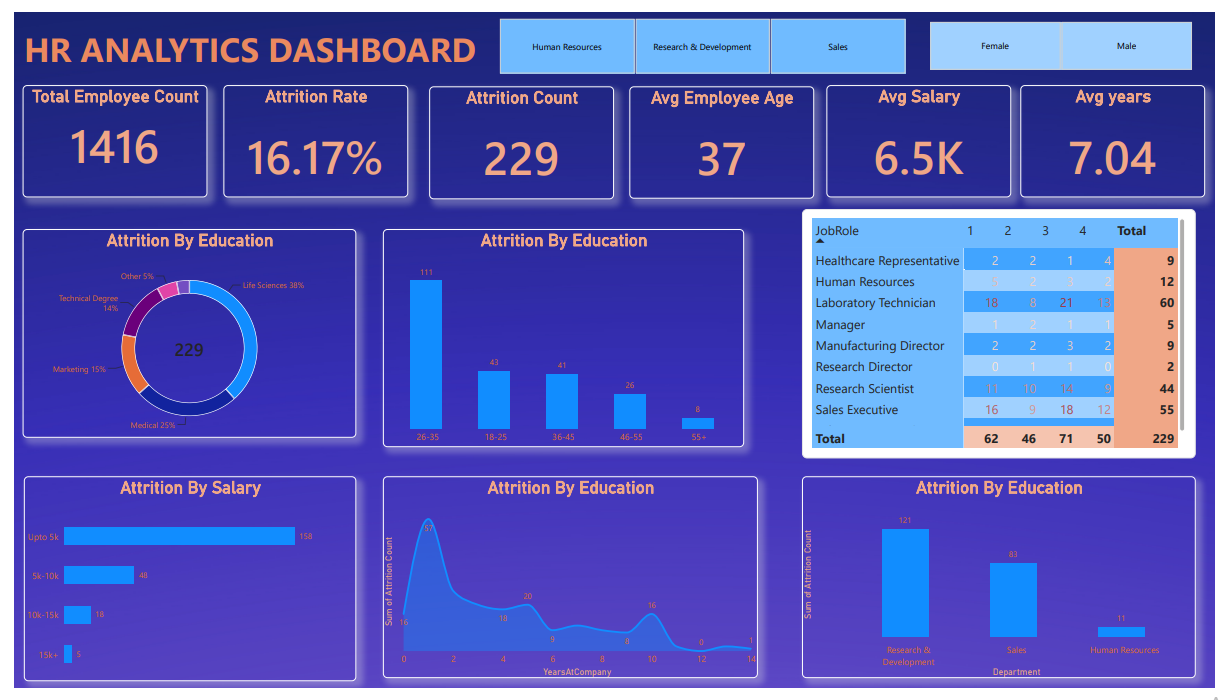

This screenshot's page, from the dashboard's own definition file:
{"tool":"powerbi","page":{"name":"Page 1","canvas":[1920,1080],"ordinal":0},"visuals":[{"type":"cardVisual","title":"Total Employee Count","fields":{"Data":["Sum(HR_Analytics.EmployeeCount)"]},"box":[14.5,117.2,295,179.2],"z":0},{"type":"cardVisual","title":"Attrition Rate","fields":{"Data":["HR_Analytics.Attrition Rate"]},"box":[334.8,117.2,295,179.2],"z":1000},{"type":"cardVisual","title":"Attrition Count","fields":{"Data":["Sum(HR_Analytics.Attrition Count)"]},"box":[664.1,119.4,295,179.2],"z":2000},{"type":"cardVisual","title":"Avg Employee Age","fields":{"Data":["Avg(HR_Analytics.Age)"]},"box":[984.5,119.1,295,179.2],"z":3000},{"type":"cardVisual","title":"Avg Salary","fields":{"Data":["Avg(HR_Analytics.MonthlyIncome)"]},"box":[1299.3,117.2,295,179.2],"z":4000},{"type":"cardVisual","title":"Avg years","fields":{"Data":["Avg(HR_Analytics.YearsAtCompany)"]},"box":[1608.8,117.2,295,179.2],"z":5000},{"type":"donutChart","title":"Attrition By Education","fields":{"Category":["HR_Analytics.EducationField"],"Y":["Sum(HR_Analytics.Attrition Count)"]},"box":[14.5,347.1,532,333],"z":6000},{"type":"clusteredColumnChart","title":"Attrition By Age Group","fields":{"Category":["HR_Analytics.AgeGroup"],"Y":["Sum(HR_Analytics.Attrition Count)"]},"box":[589.9,347.1,577.3,347.5],"z":7000},{"type":"clusteredBarChart","title":"Attrition By Salary","fields":{"Category":["HR_Analytics.SalarySlab"],"Y":["Sum(HR_Analytics.Attrition Count)"]},"box":[16.3,741.6,530.2,327.5],"z":8000},{"type":"pivotTable","title":"Attrition By Education","fields":{"Columns":["HR_Analytics.JobSatisfaction"],"Rows":["HR_Analytics.JobRole"],"Values":["Sum(HR_Analytics.Attrition Count)"]},"box":[1259.5,314.9,629.8,398.1],"z":9000},{"type":"areaChart","title":"Attrition By Years","fields":{"Category":["HR_Analytics.YearsAtCompany"],"Y":["Sum(HR_Analytics.Attrition Count)"]},"box":[589.9,742,599,322.1],"z":10000},{"type":"columnChart","title":"Attrition By Department","fields":{"Category":["HR_Analytics.Department"],"Y":["Sum(HR_Analytics.Attrition Count)"]},"box":[1259.5,742,629.8,322.1],"z":11000},{"type":"textbox","box":[100,100,300,300],"z":12000},{"type":"textbox","box":[16.3,21.7,740.2,77.8],"z":13000},{"type":"slicer","fields":{"Values":["HR_Analytics.Department"]},"box":[756.4,9,687.7,90.5],"z":14000},{"type":"slicer","fields":{"Values":["HR_Analytics.Gender"]},"box":[1444.1,14.5,457.8,79.6],"z":15000}]}

Visuals, with their boxes in screenshot pixels (x1, y1, x2, y2), scaled from the page's 1920x1080 canvas onto the 1223x700 screenshot:
"Total Employee Count" cardVisual: 9,76,197,192
"Attrition Rate" cardVisual: 213,76,401,192
"Attrition Count" cardVisual: 423,77,611,194
"Avg Employee Age" cardVisual: 627,77,815,193
"Avg Salary" cardVisual: 828,76,1016,192
"Avg years" cardVisual: 1025,76,1213,192
"Attrition By Education" donutChart: 9,225,348,441
"Attrition By Age Group" clusteredColumnChart: 376,225,743,450
"Attrition By Salary" clusteredBarChart: 10,481,348,693
"Attrition By Education" pivotTable: 802,204,1203,462
"Attrition By Years" areaChart: 376,481,757,690
"Attrition By Department" columnChart: 802,481,1203,690
textbox: 64,65,255,259
textbox: 10,14,482,64
slicer - HR_Analytics.Department: 482,6,920,64
slicer - HR_Analytics.Gender: 920,9,1211,61
